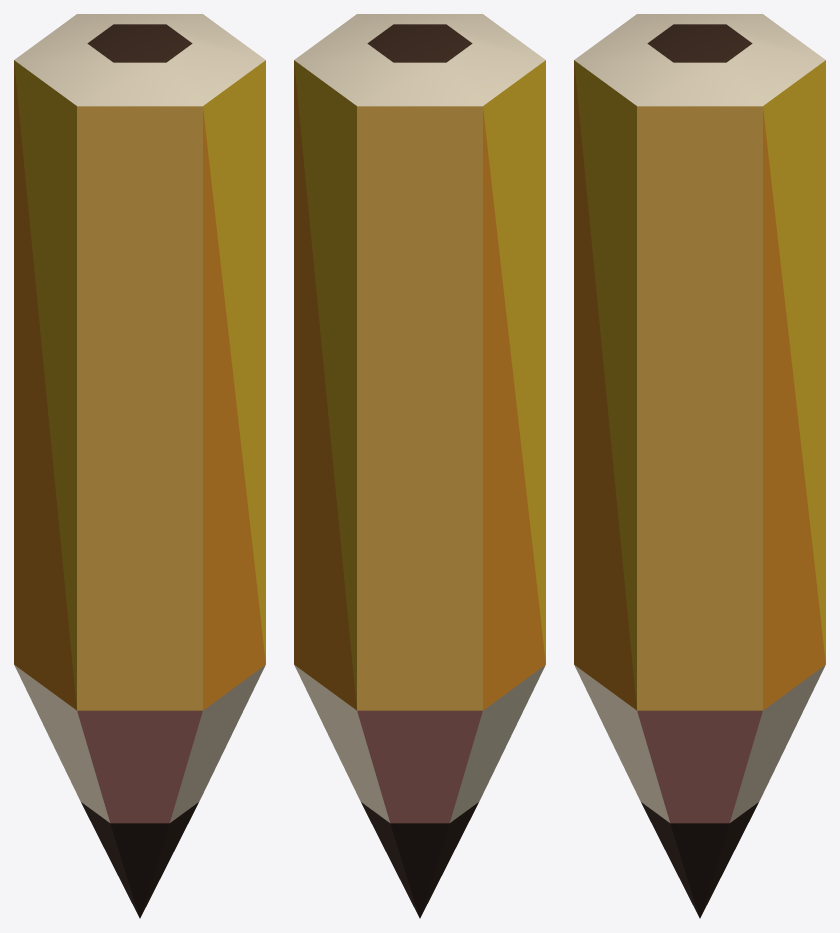
File: itch_kaykit_rpg_tools_pencil_a_short.glb
3 renders of one model, left to right at view 1: azimuth 30°, elevation 25°; view 2: azimuth 150°, elevation 25°; view 3: azimuth 270°, elevation 25°, orthographic.
Visible parts, largest first — view 1: pencil_A_short; view 2: pencil_A_short; view 3: pencil_A_short.
Boxes of the visible parts, <box> form: pencil_A_short: <box>14,14,265,918</box>; pencil_A_short: <box>294,14,545,918</box>; pencil_A_short: <box>574,14,825,918</box>.
Size of the model in its own units: 0.2032 by 0.9 by 0.2347.
